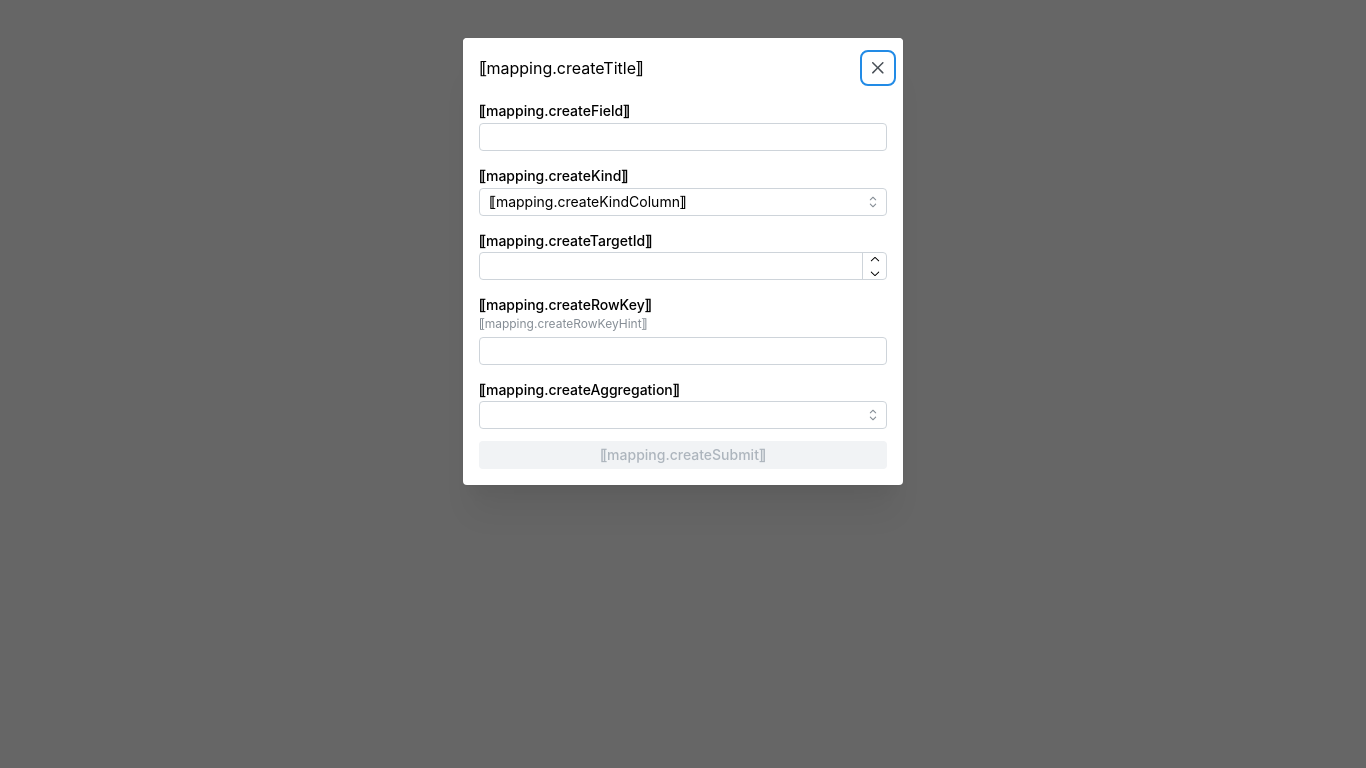
Test: Проба шляху мапінгу (ФВ-13.17) › hasValue: false — «даних немає», а не порожній чи хибний результат
Type "Plant/Unit1|Idle" into the field labelled "⟦mapping.createField⟧".
click(683, 137); type("Plant/Unit1|Idle")  # box x1=479 y1=123 x2=887 y2=151
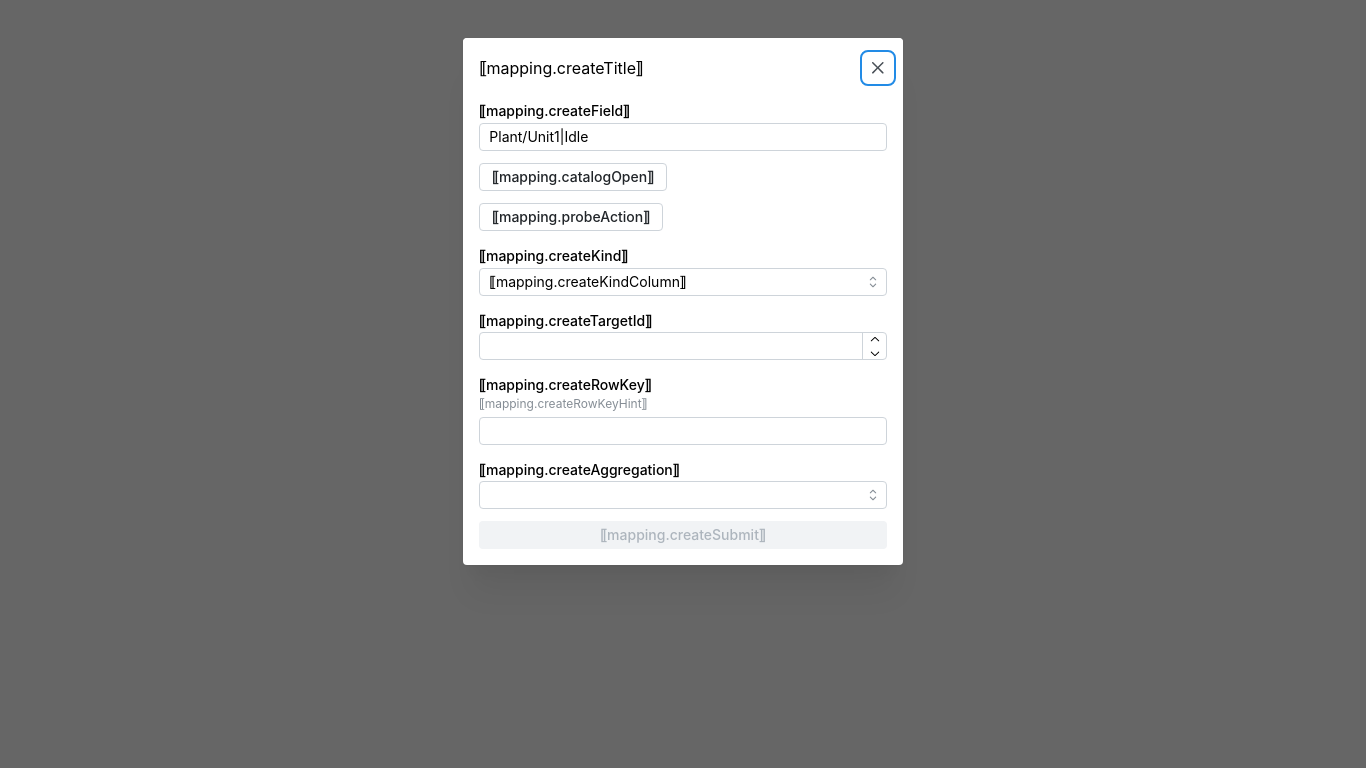
Click the button "⟦mapping.probeAction⟧".
click(571, 217)  # box x1=479 y1=203 x2=663 y2=231
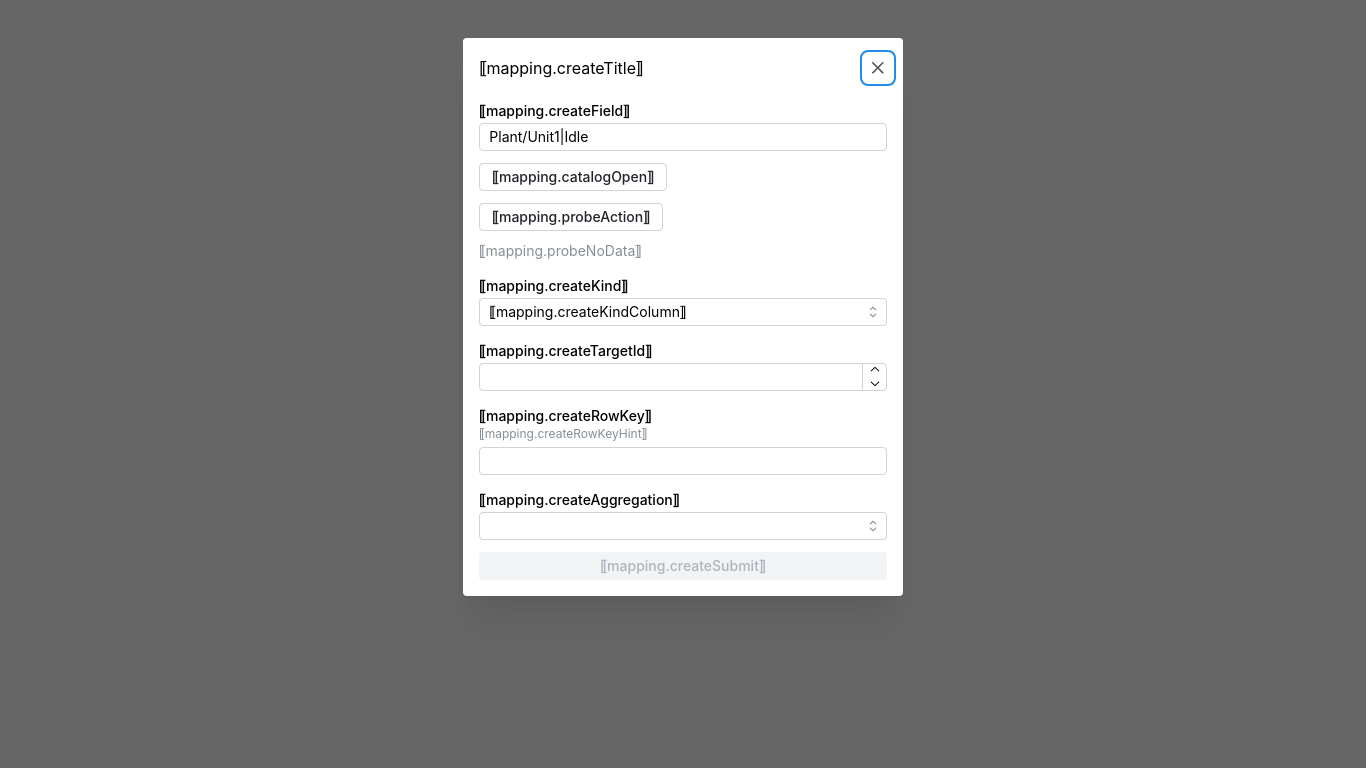
Result: the text "⟦mapping.probeNoData⟧" is shown at x1=479 y1=241 x2=642 y2=262
